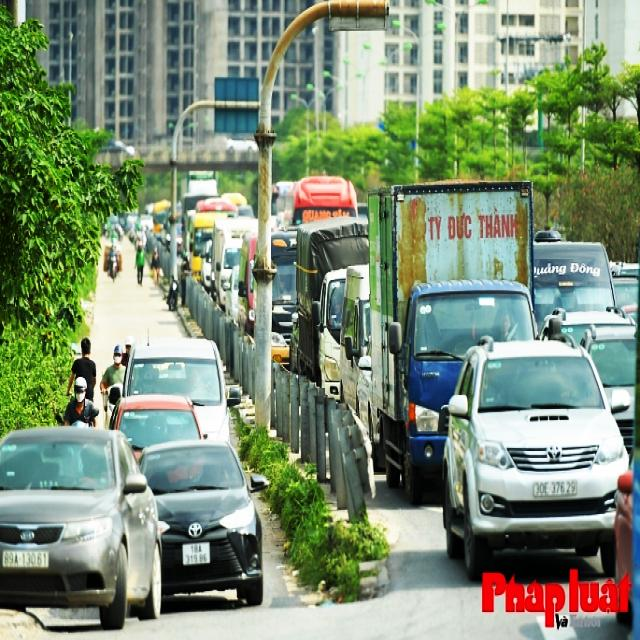license_plate: (533, 477, 578, 500), (3, 550, 50, 569), (183, 543, 213, 568)
